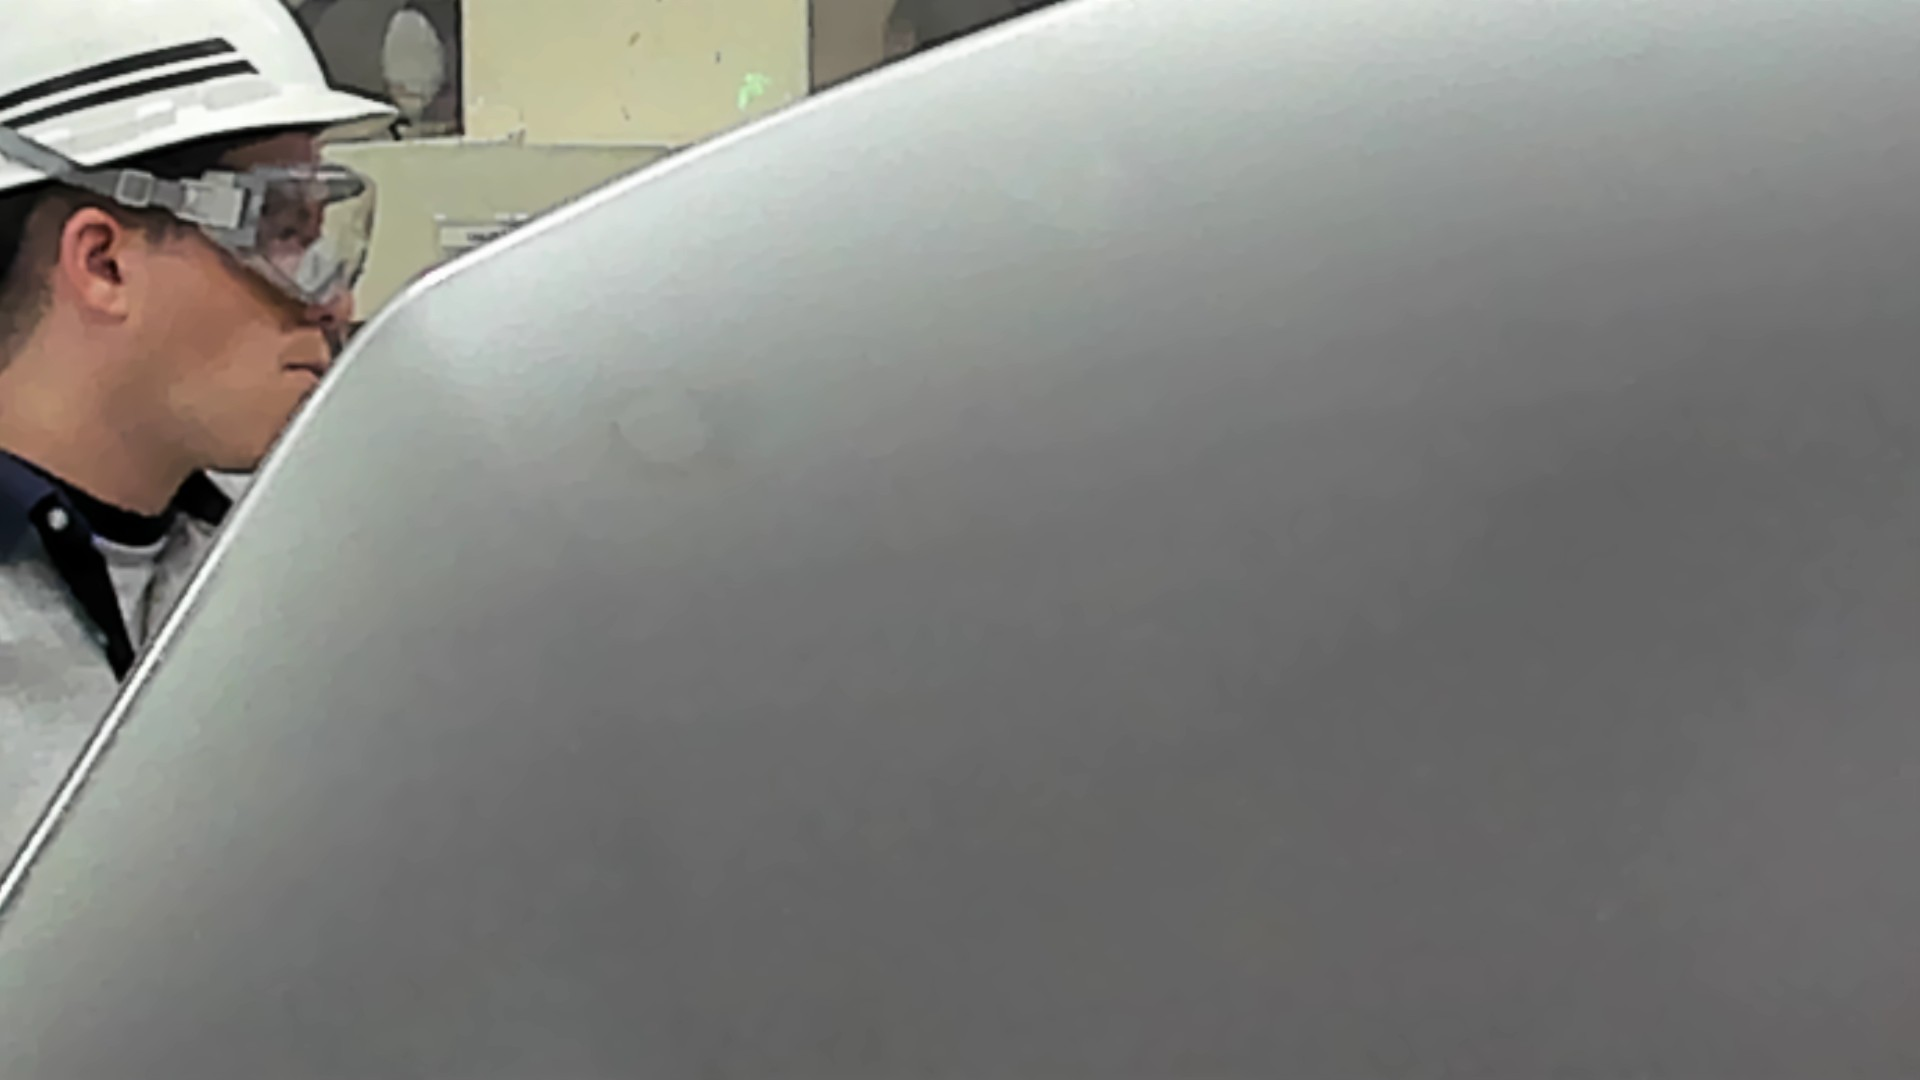capo: (654, 193, 1920, 1080)
